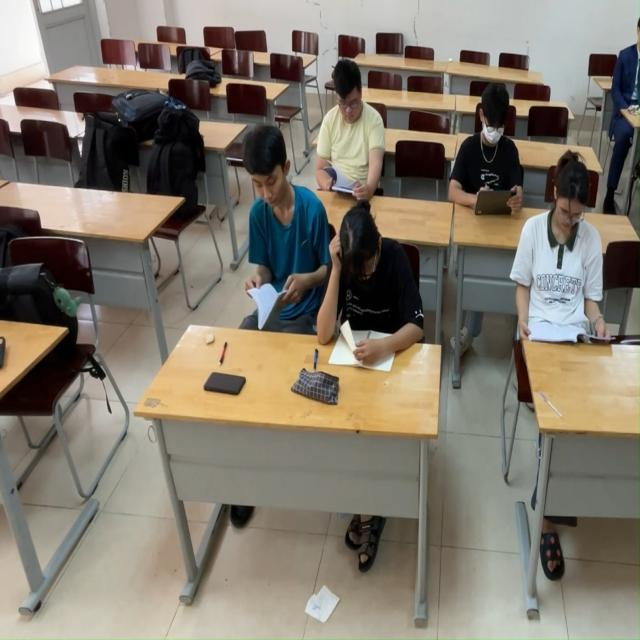read: (516, 142, 607, 389), (221, 124, 323, 331), (338, 213, 423, 379), (451, 72, 529, 219), (316, 57, 390, 199)
